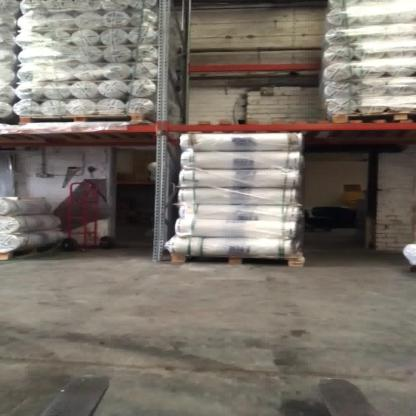vertical_damage: (150, 236, 172, 265)
